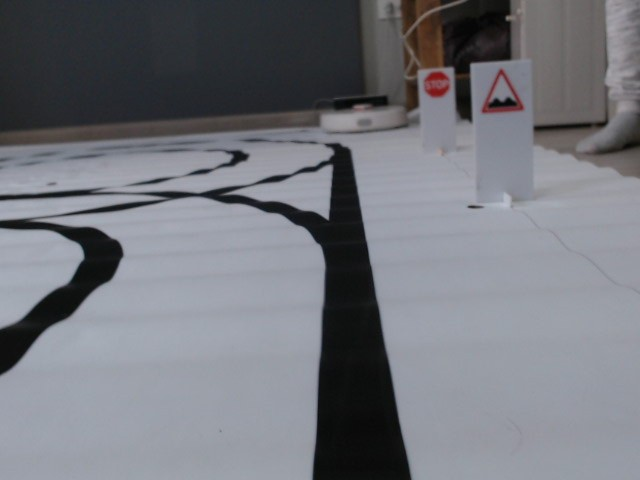Nerov: (479, 66, 526, 113)
